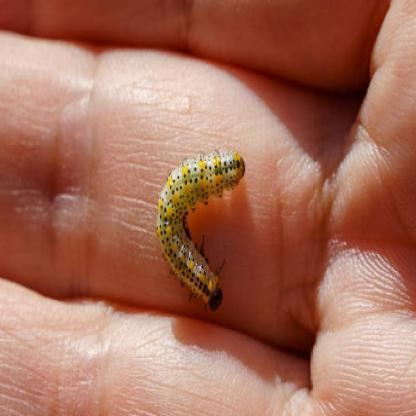sawfly: (155, 150, 247, 314)
